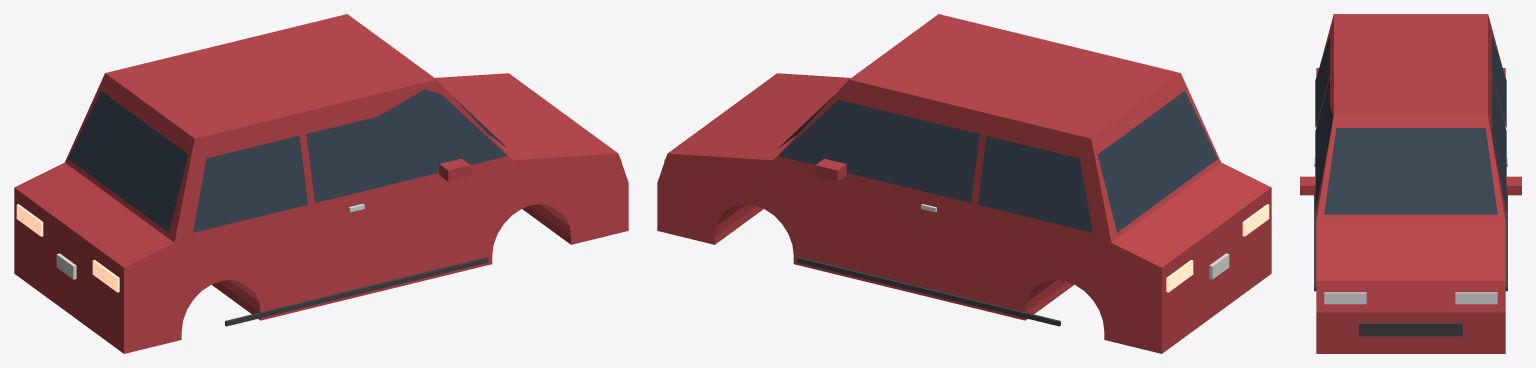
File: SM_Veh_Van.fbx
3 views of the same model, side by side, from view 1: azimuth 30°, elevation 25°; view 2: azimuth 150°, elevation 25°; view 3: azimuth 270°, elevation 25° (orthographic). The views are drawn at different scales.
Parts seen in each view (by area): view 1: SM_Veh_Van; view 2: SM_Veh_Van; view 3: SM_Veh_Van.
Boxes of the visible parts, left/top/right/bottom form: SM_Veh_Van: left=14, top=14, right=628, bottom=353; SM_Veh_Van: left=657, top=14, right=1271, bottom=353; SM_Veh_Van: left=1300, top=14, right=1521, bottom=353.
Size of the model in its own units: 527 by 230 by 185.
